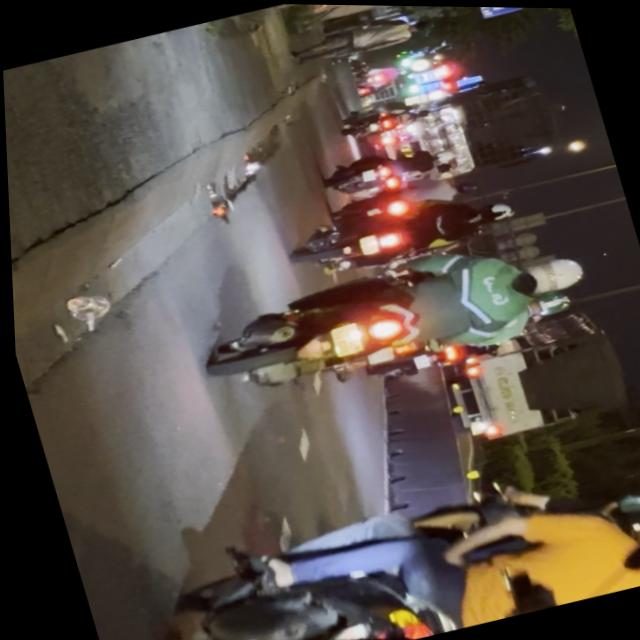helmet: (511, 250, 588, 302), (525, 288, 572, 319), (473, 198, 514, 226)
licenseplate: (74, 422, 640, 640), (187, 217, 605, 424), (282, 174, 521, 288)
motorcyclist: (610, 503, 640, 577)
nohelmet: (325, 320, 363, 358), (355, 234, 379, 256)
